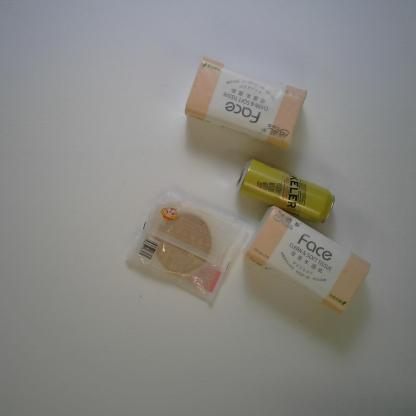Alcohol: (233, 155, 338, 229)
Dessert: (119, 183, 252, 310)
Tissue: (242, 199, 373, 316), (179, 56, 310, 151)
